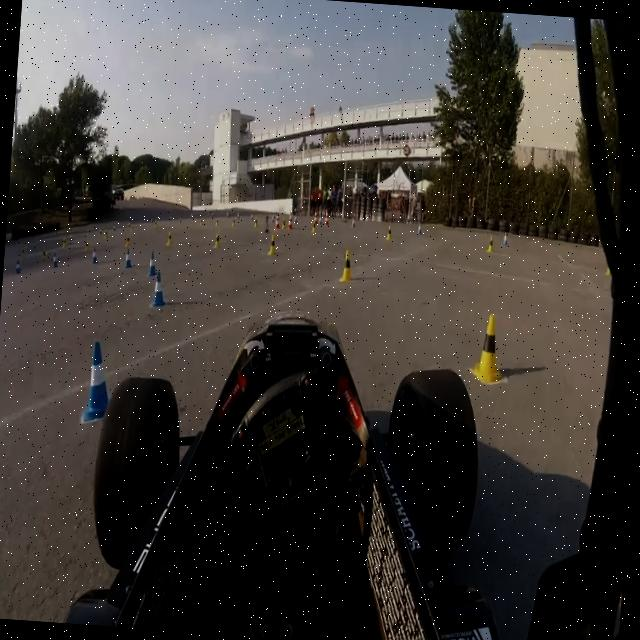blue_cone: (80, 338, 118, 426), (149, 270, 170, 308), (146, 250, 158, 278), (124, 247, 134, 270), (90, 246, 100, 265), (14, 258, 22, 276), (52, 252, 58, 270)
yellow_cone: (468, 311, 510, 387), (338, 248, 356, 284), (266, 231, 278, 256), (486, 234, 496, 252), (212, 232, 222, 248), (165, 230, 174, 247), (386, 224, 394, 240)
